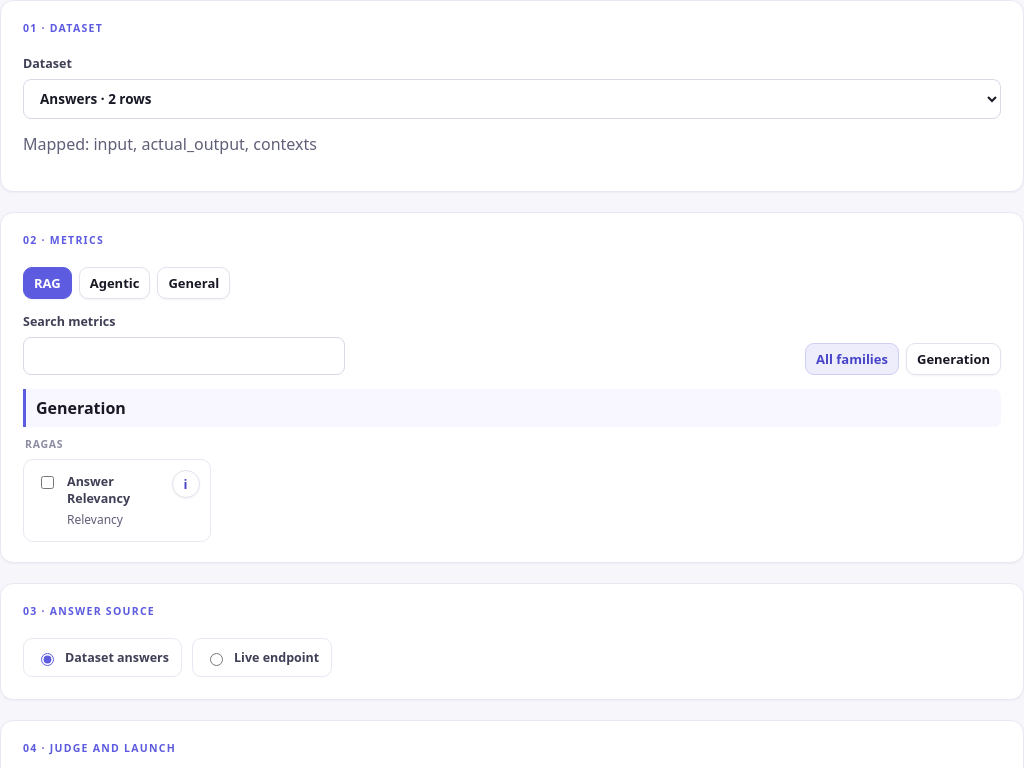
Test: RunWizard › uses consistent LLM and embedding field labels
Click the checkbox labelled "Answer Relevancy": click(48, 483) [41, 476, 54, 489]
(page scrolled)
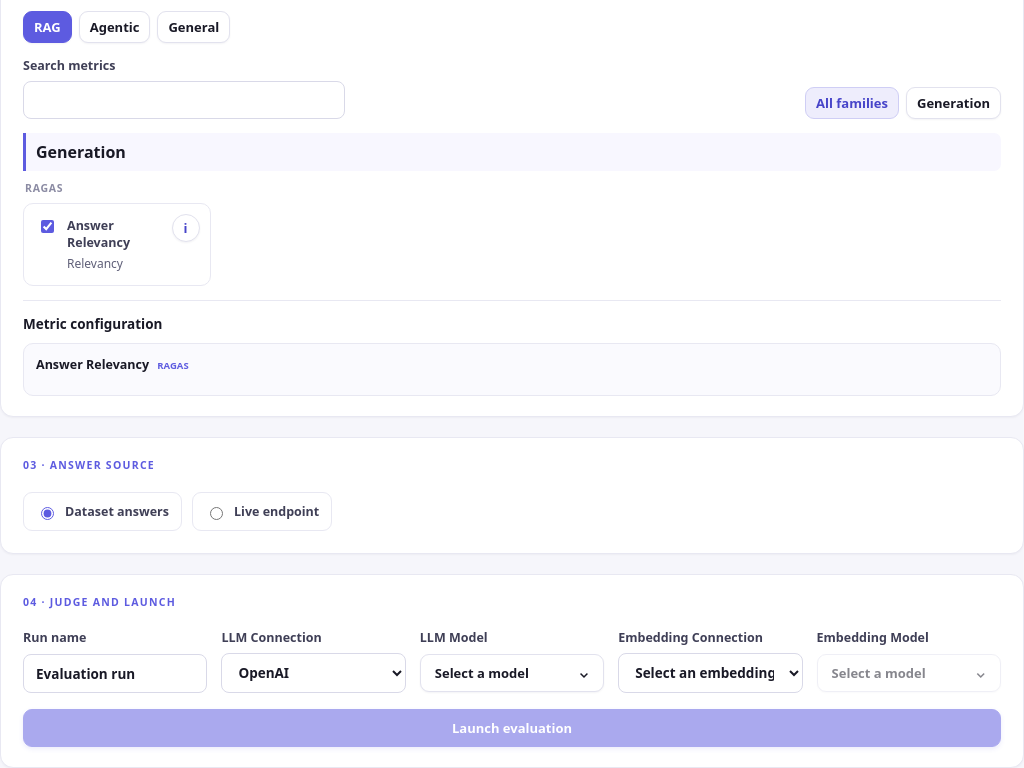
Expected: the dropdown labelled "LLM Connection" is shown, [221, 653, 406, 693]
Expected: the dropdown labelled "Embedding Connection" is shown, [618, 653, 803, 693]
Expected: the button named "Embedding Model" is shown, [817, 654, 1001, 692]
